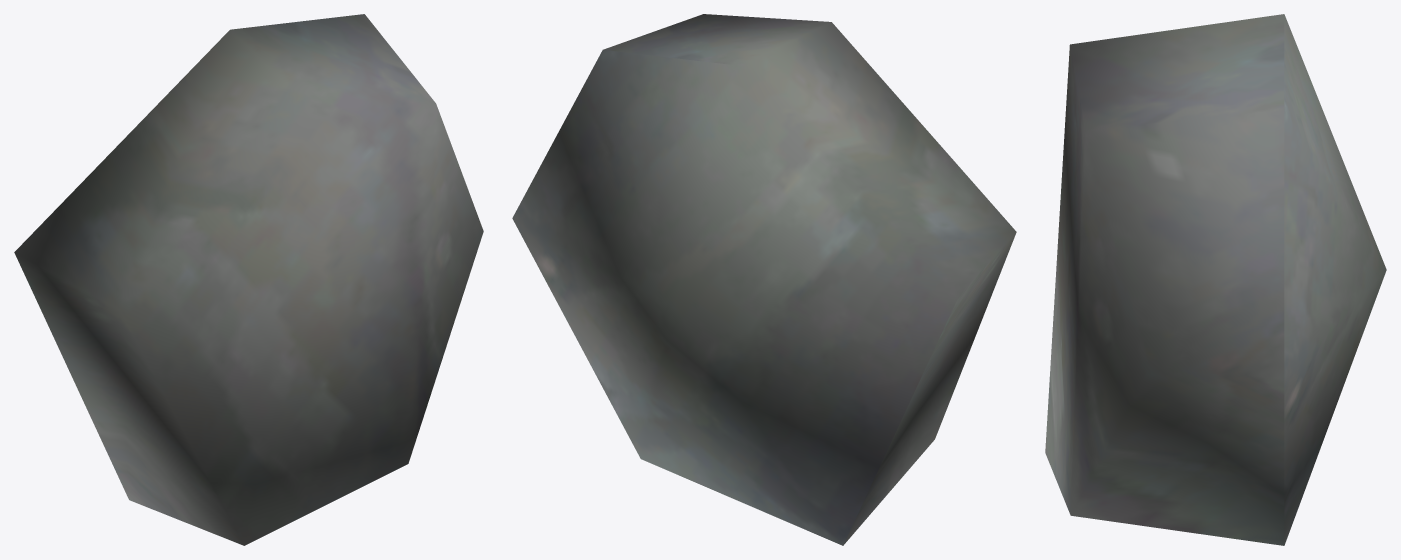
Rendered from Stages_MdSRock01.fbx.
The picture shows the model from 3 angles, left to right: view 1: azimuth 30°, elevation 25°; view 2: azimuth 150°, elevation 25°; view 3: azimuth 270°, elevation 25°; orthographic projection. The views are drawn at different scales.
Parts seen in each view (by area): view 1: Stages_MdSRock01_Vo; view 2: Stages_MdSRock01_Vo; view 3: Stages_MdSRock01_Vo.
Boxes of the visible parts, x1,y1,x2,y2 form: Stages_MdSRock01_Vo: [14, 14, 483, 545]; Stages_MdSRock01_Vo: [512, 14, 1016, 545]; Stages_MdSRock01_Vo: [1045, 14, 1386, 545].
Size of the model in its own units: 3.7 by 3.59 by 2.14.
1 material, 1 textured.
